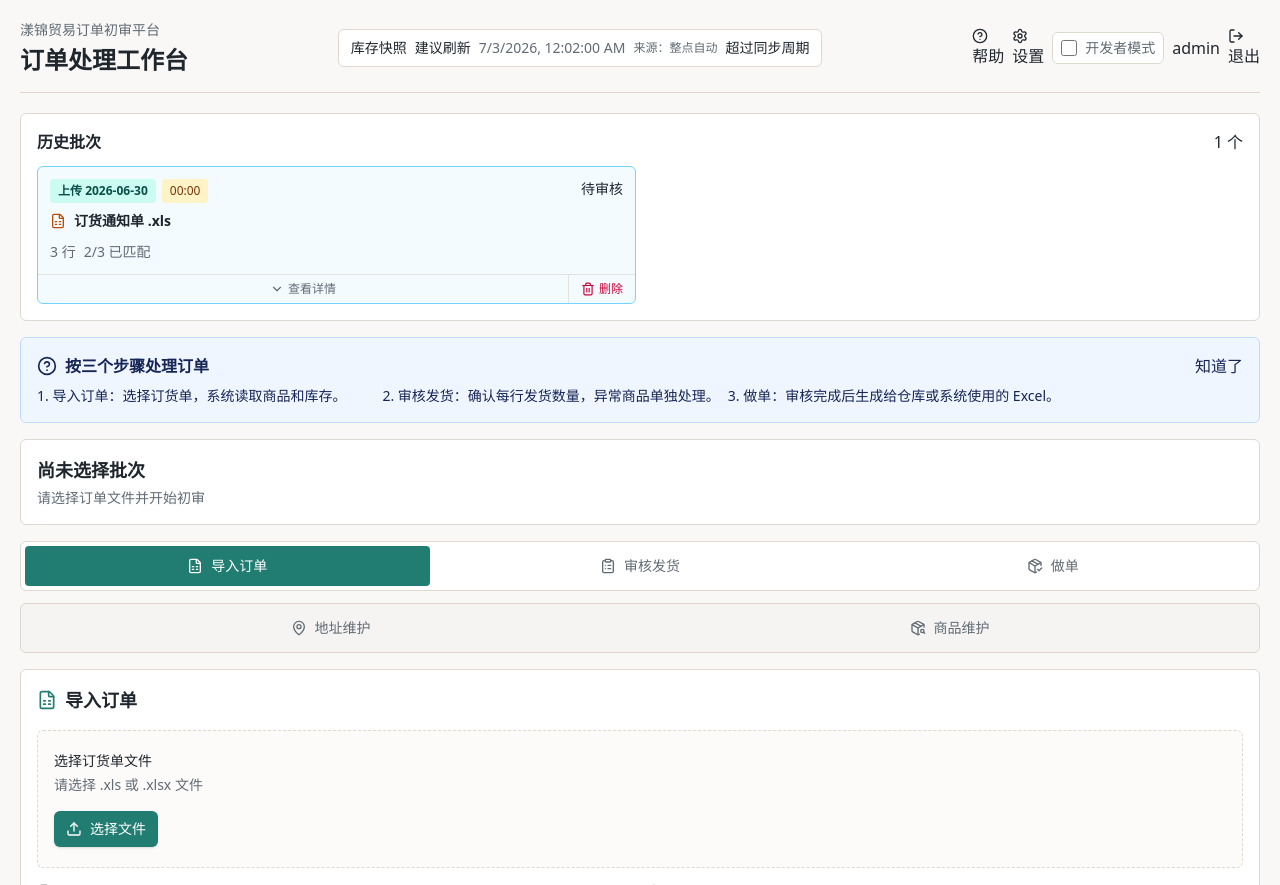
Test: App › allows admins to delete a batch from history
Check: the text "订货通知单 .xls" is shown, box [74,211,171,230]
Click the button with aria-label "删除批次".
click(602, 289)  # box [568,275,635,303]
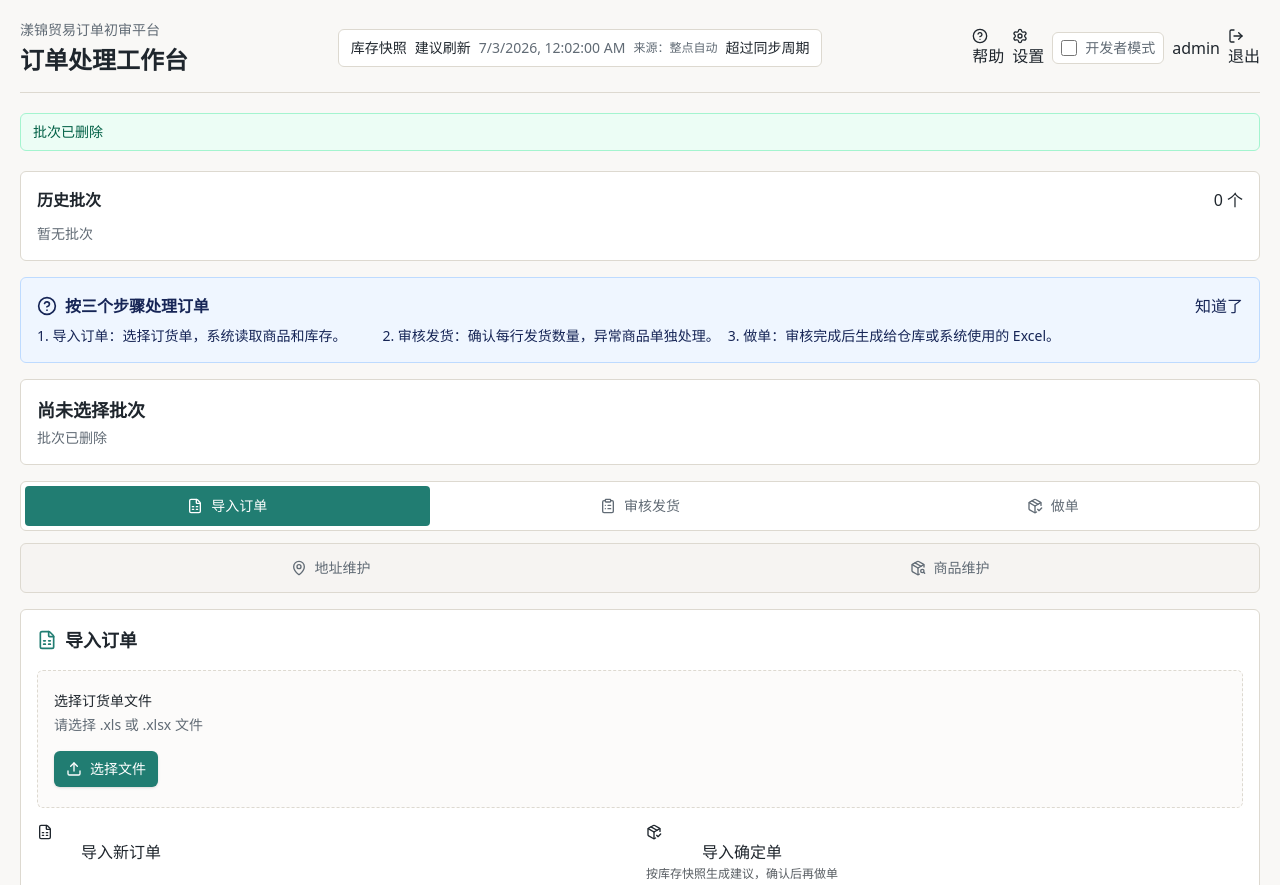
Check: the button "订货通知单 .xls" is gone
Check: the 1st text "批次已删除" is shown, box [20,113,1260,151]
